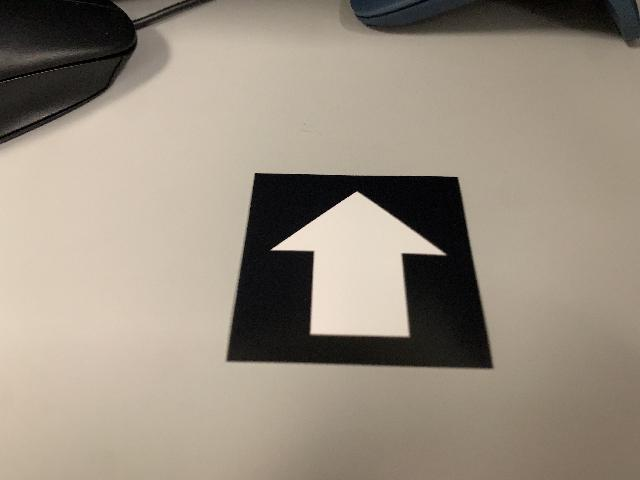up: (225, 169, 496, 373)
